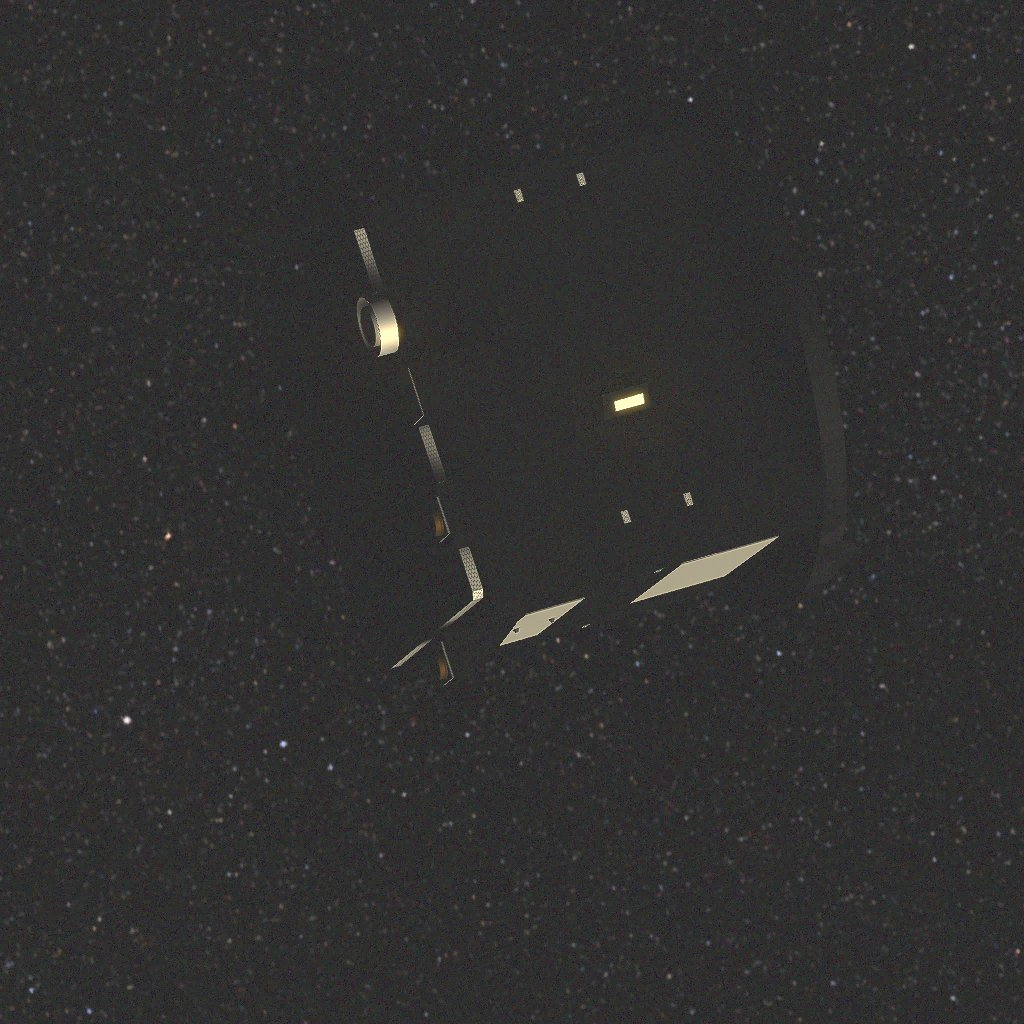proba_3_ocs: (249, 120, 828, 665)
